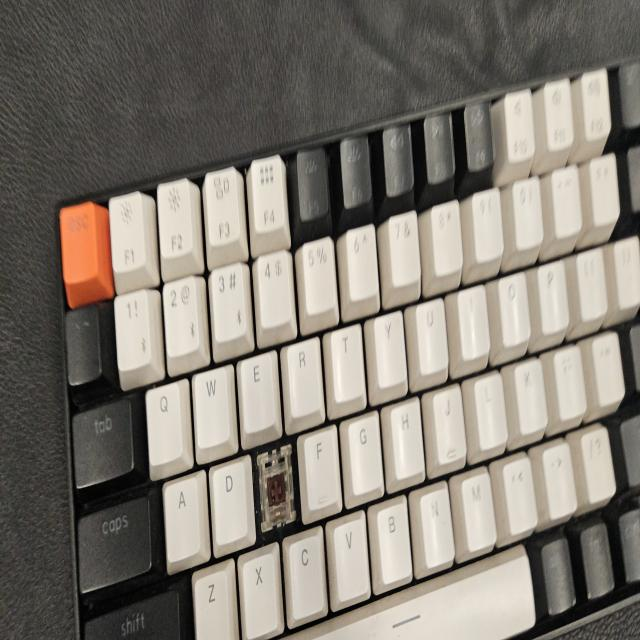C: (258, 458, 294, 529)
